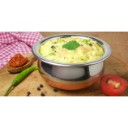venpongal: (43, 38, 103, 62)
